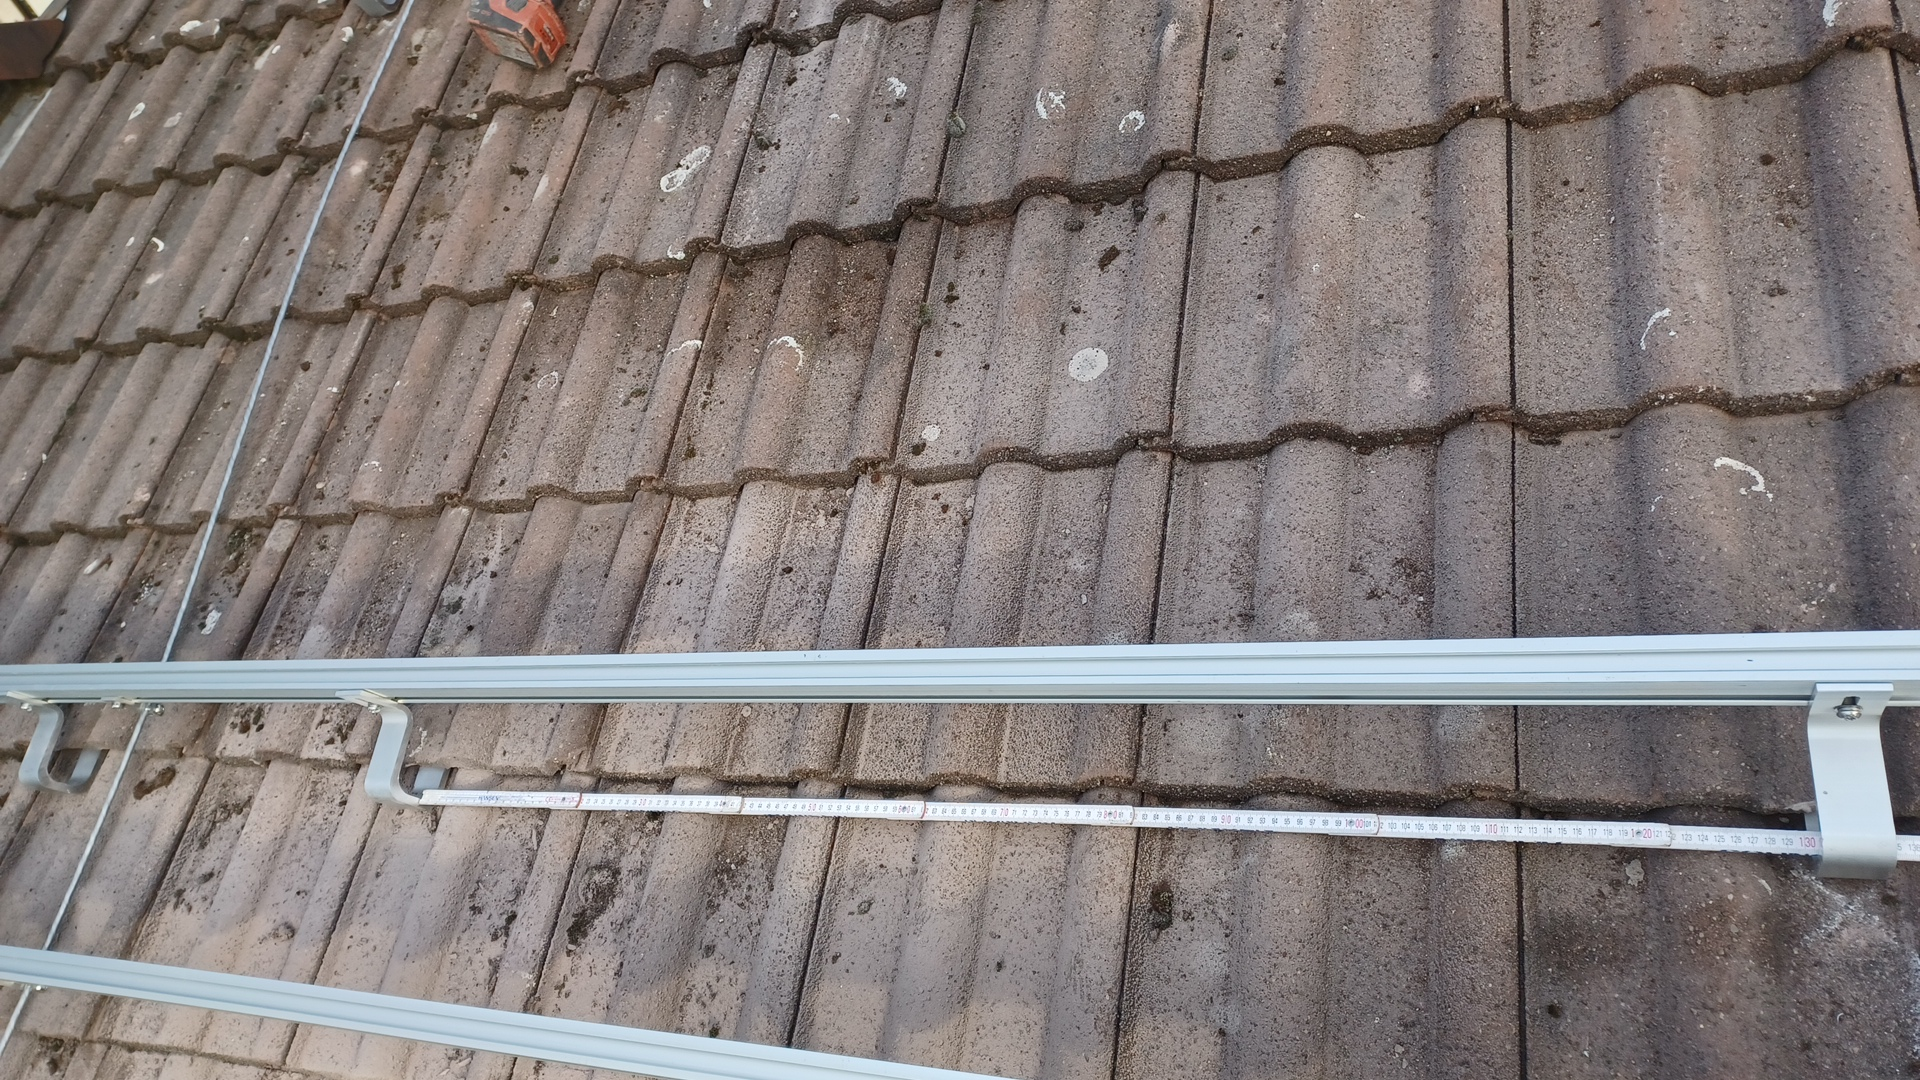hook: (1805, 682, 1896, 880), (335, 690, 450, 808), (1, 690, 100, 794)
